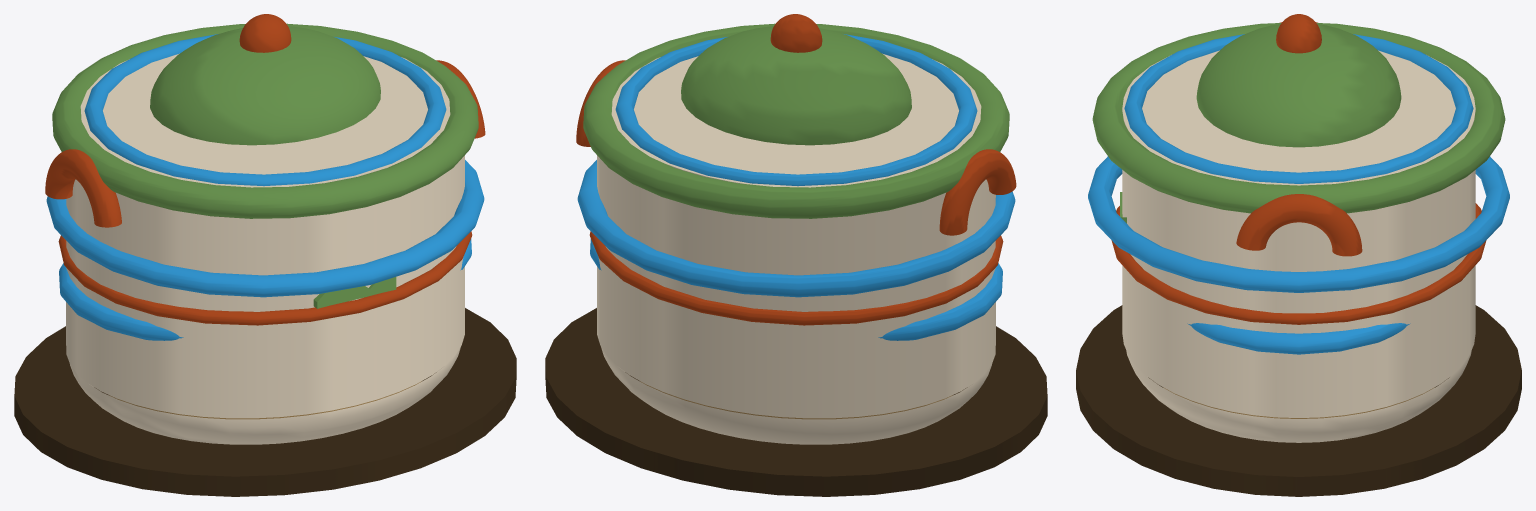
The model's file is 0754_先秦图鉴_辟雍.glb.
The picture shows the model from 3 angles, left to right: view 1: azimuth 30°, elevation 25°; view 2: azimuth 150°, elevation 25°; view 3: azimuth 270°, elevation 25°; orthographic projection. The views are drawn at different scales.
Parts seen in each view (by area): view 1: card_0754; view 2: card_0754; view 3: card_0754.
Boxes of the visible parts, <box> form: card_0754: <box>14,14,516,496</box>; card_0754: <box>545,14,1047,496</box>; card_0754: <box>1076,14,1521,496</box>.
Size of the model in its own units: 1.18 by 1 by 1.04.
